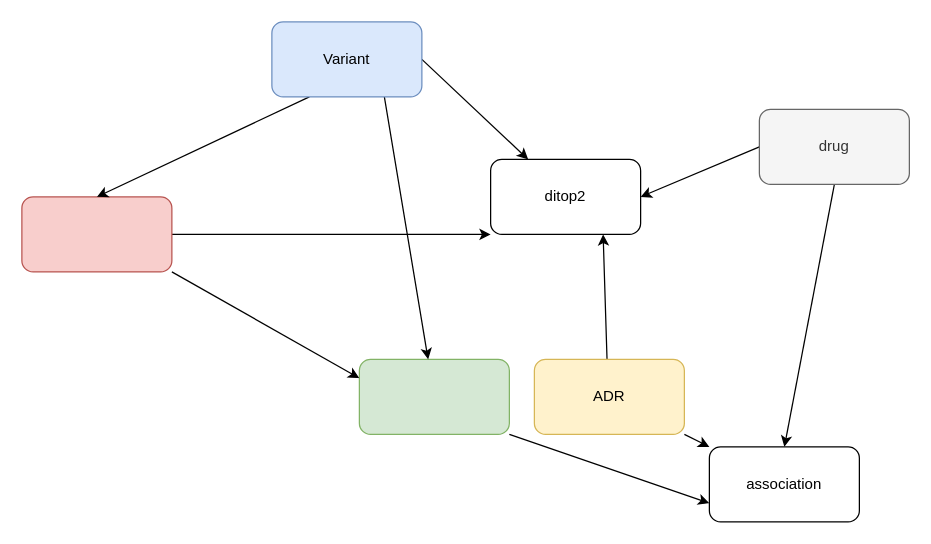
Some shapes in this 931 by 544 pixel diagram are drawn without their labels. Here are the shapes that lost their labels. From the top down, the centre of each, then its label:
At [96,234]: "Protein".
At [433,396]: "Gene".
